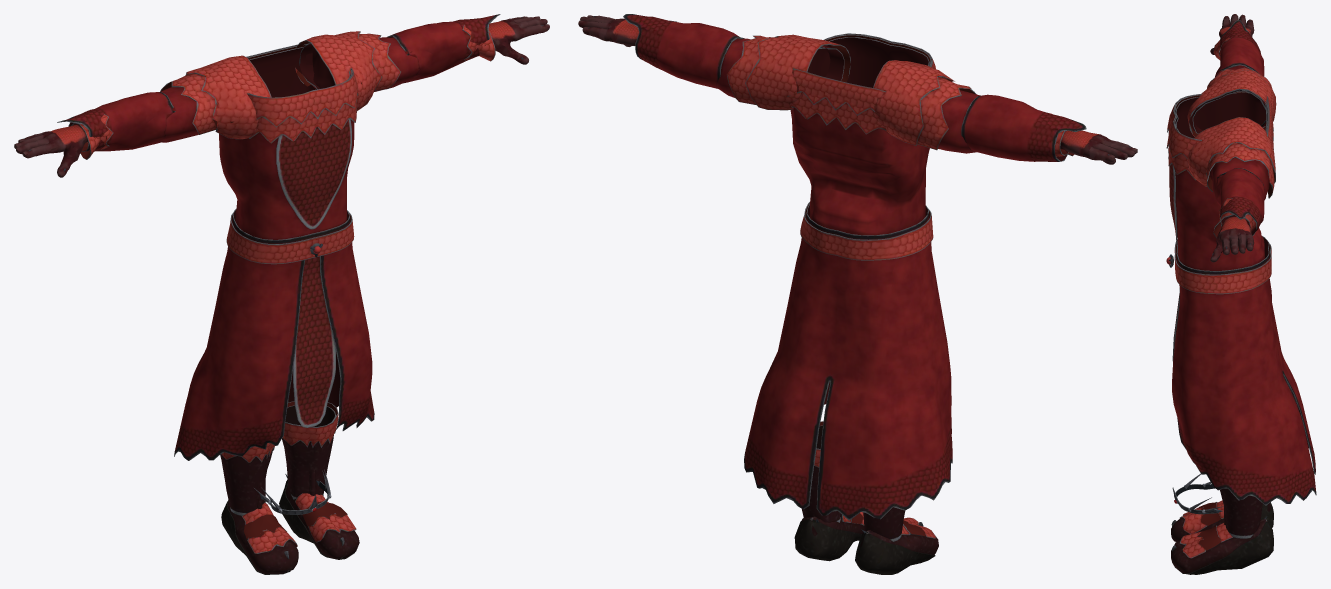
Rendered from mage_dragon.glb.
3 views of the same model, side by side, from view 1: azimuth 30°, elevation 25°; view 2: azimuth 150°, elevation 25°; view 3: azimuth 270°, elevation 25° (orthographic). The views are drawn at different scales.
Visible parts, largest first — view 1: robe, feet, gloves; view 2: robe, feet, gloves; view 3: robe, feet, gloves, circlet.
Boxes of the visible parts, x1=… form: robe: x1=57, y1=14, x2=500, y2=460; feet: x1=220, y1=401, x2=359, y2=574; gloves: x1=14, y1=16, x2=549, y2=177; robe: x1=623, y1=14, x2=1086, y2=520; feet: x1=794, y1=421, x2=938, y2=574; gloves: x1=578, y1=15, x2=1137, y2=164; robe: x1=1166, y1=20, x2=1316, y2=505; feet: x1=1171, y1=488, x2=1273, y2=574; gloves: x1=1210, y1=14, x2=1256, y2=262; circlet: x1=1172, y1=473, x2=1223, y2=514.
Size of the model in its own units: 1.8 by 1.61 by 0.4822.
Materials: 4 (4 with a texture image).
